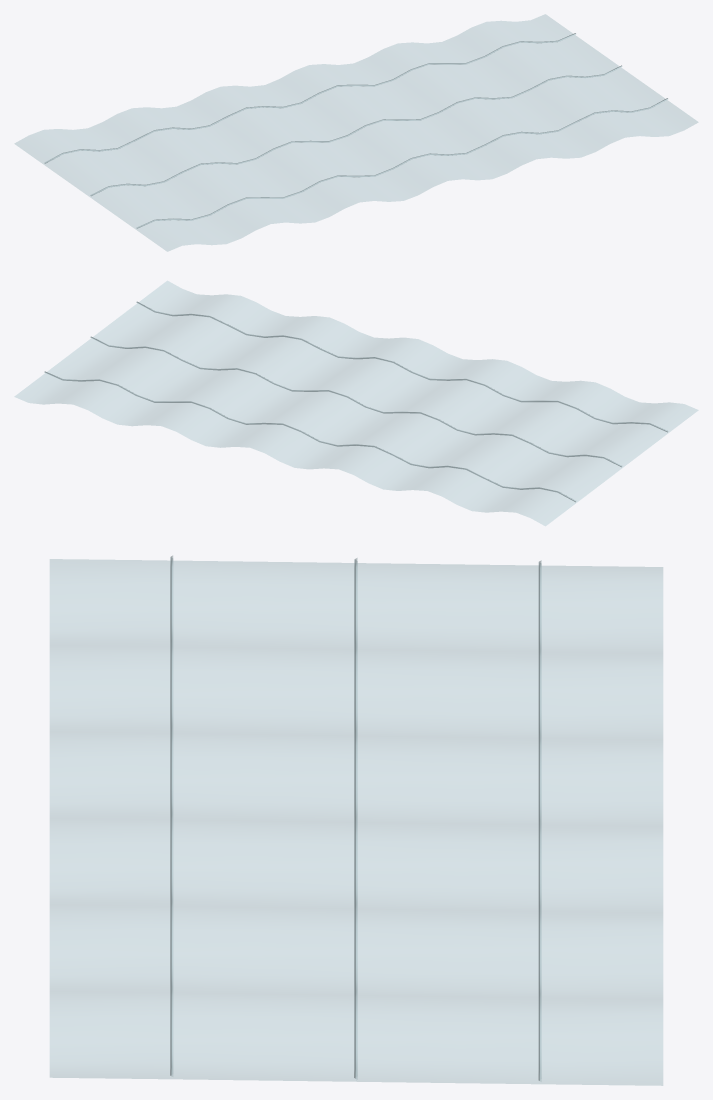
File: lake-thermo-slope-0.glb
3 views of the same model, one above another, from view 1: azimuth 30°, elevation 25°; view 2: azimuth 150°, elevation 25°; view 3: azimuth 270°, elevation 25° (orthographic). The views are drawn at different scales.
Visible parts, largest first — view 1: lake-thermo-slope-0; view 2: lake-thermo-slope-0; view 3: lake-thermo-slope-0.
Boxes of the visible parts, <box> form: lake-thermo-slope-0: <box>14,14,698,251</box>; lake-thermo-slope-0: <box>14,281,698,525</box>; lake-thermo-slope-0: <box>50,555,662,1085</box>.
Bounding box in the file's own units: 6 × 0.1285 × 3.
